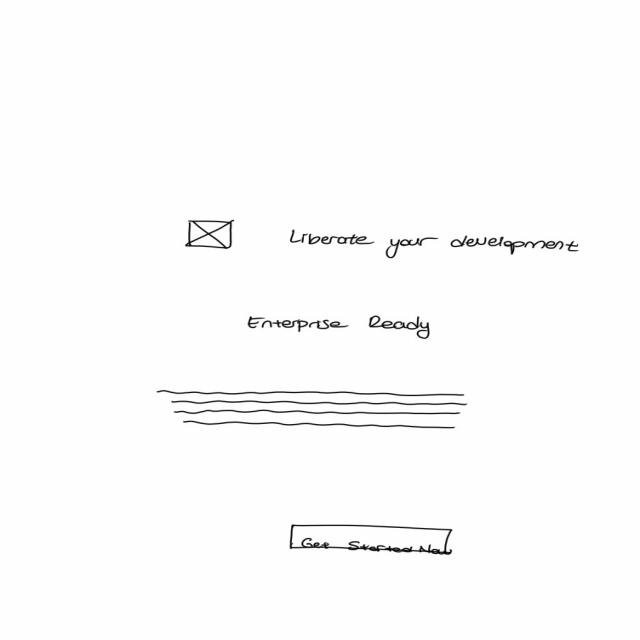button: (287, 523, 455, 557)
image: (183, 218, 234, 250)
label: (286, 229, 582, 261), (247, 314, 432, 342)
textbox: (154, 388, 470, 432)
